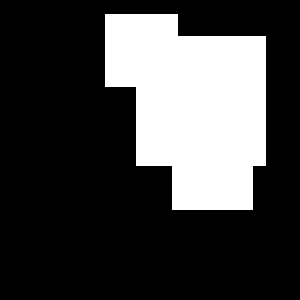circle: (136, 36, 266, 166), (172, 129, 253, 210), (105, 14, 178, 87)
